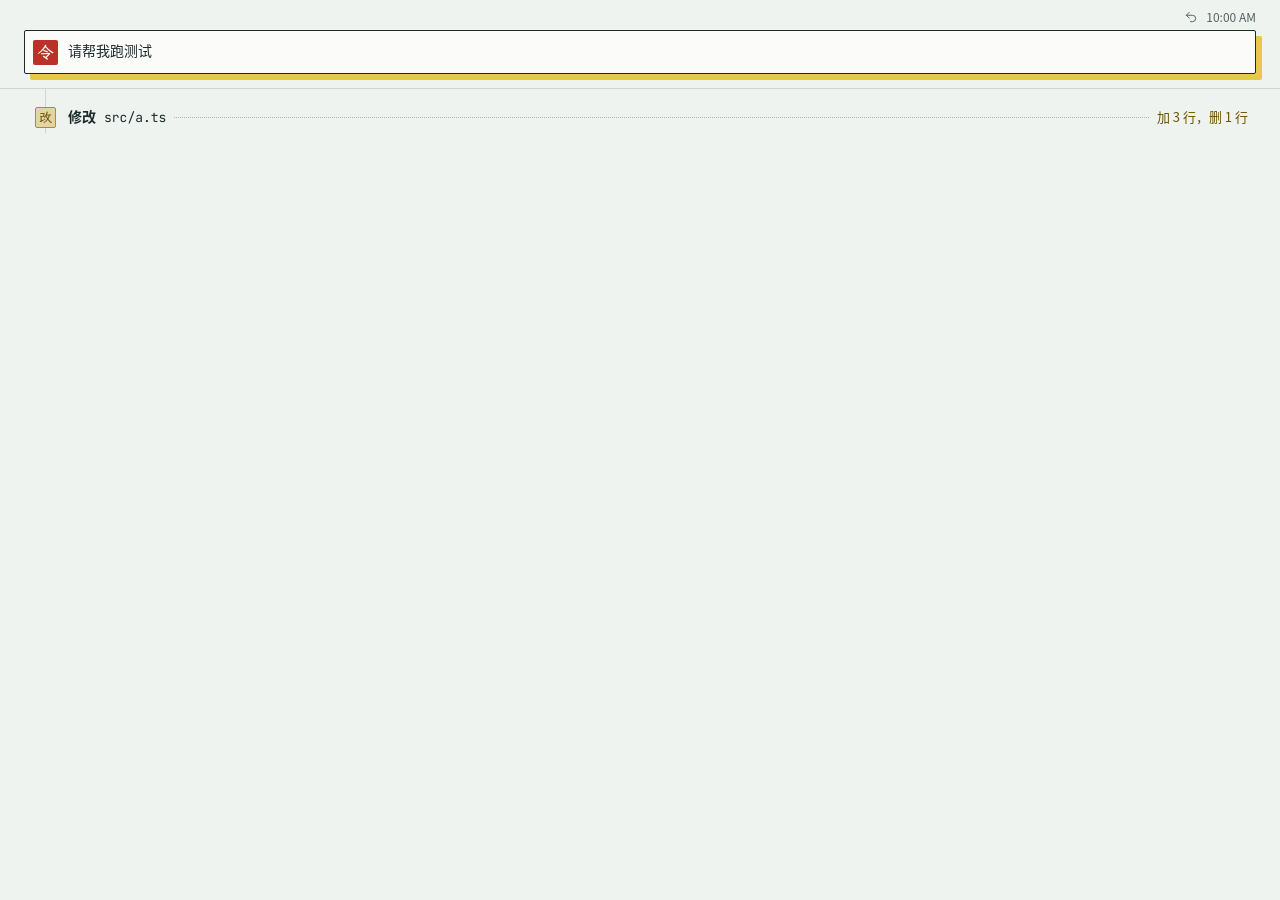
Test: Transcript component (P1-15 & P1-13) › opens undo confirmation bubble and invokes onUndo(turn) only when confirmed
Later steps or results of the test are not shown.
Click the button named "撤回这一轮起的改动": (1191, 17) 1180,6 -> 1202,28
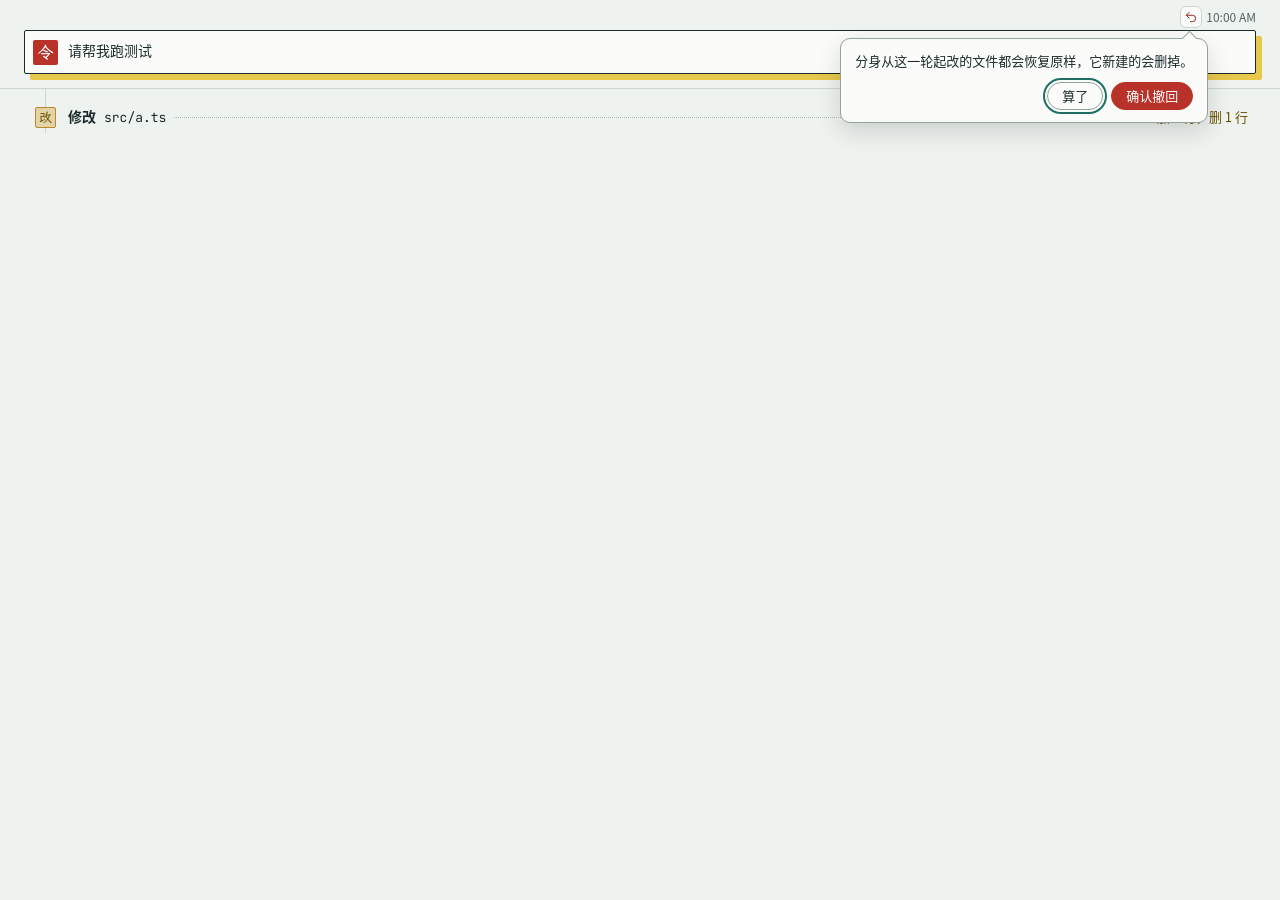
Expected: the text "分身从这一轮起改的文件都会恢复原样，它新建的会删掉。" is shown, 855,51 -> 1193,72
